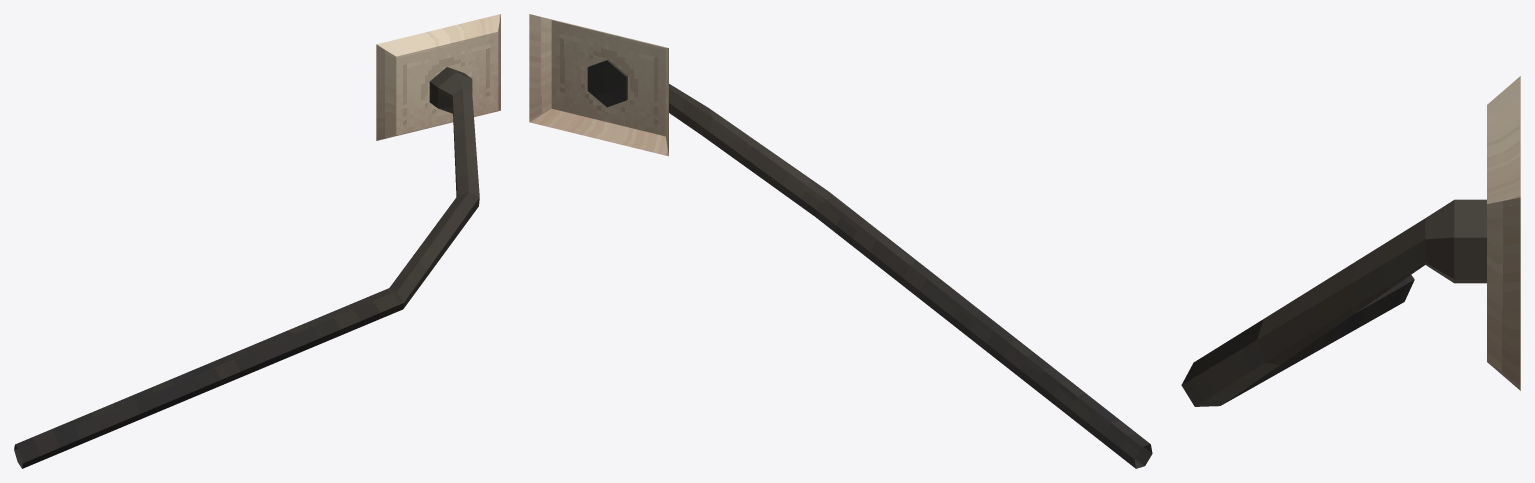
File: Seeker_OutletPlug.fbx
The picture shows the model from 3 angles, left to right: view 1: azimuth 30°, elevation 25°; view 2: azimuth 150°, elevation 25°; view 3: azimuth 270°, elevation 25°; orthographic projection. The views are drawn at different scales.
Visible parts, largest first — view 1: Plug, Outlet; view 2: Plug, Outlet; view 3: Plug, Outlet.
Part boxes in pixels (x1=…): Plug: x1=14, y1=67, x2=479, y2=468; Outlet: x1=376, y1=14, x2=500, y2=140; Plug: x1=587, y1=59, x2=1152, y2=468; Outlet: x1=529, y1=14, x2=668, y2=156; Plug: x1=1181, y1=199, x2=1486, y2=406; Outlet: x1=1487, y1=76, x2=1520, y2=390.
Bounding box in the file's own units: 832 × 466 × 236.
